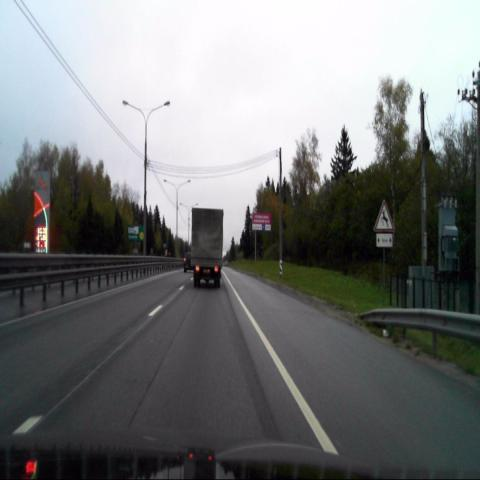1_27: (373, 199, 395, 232)
